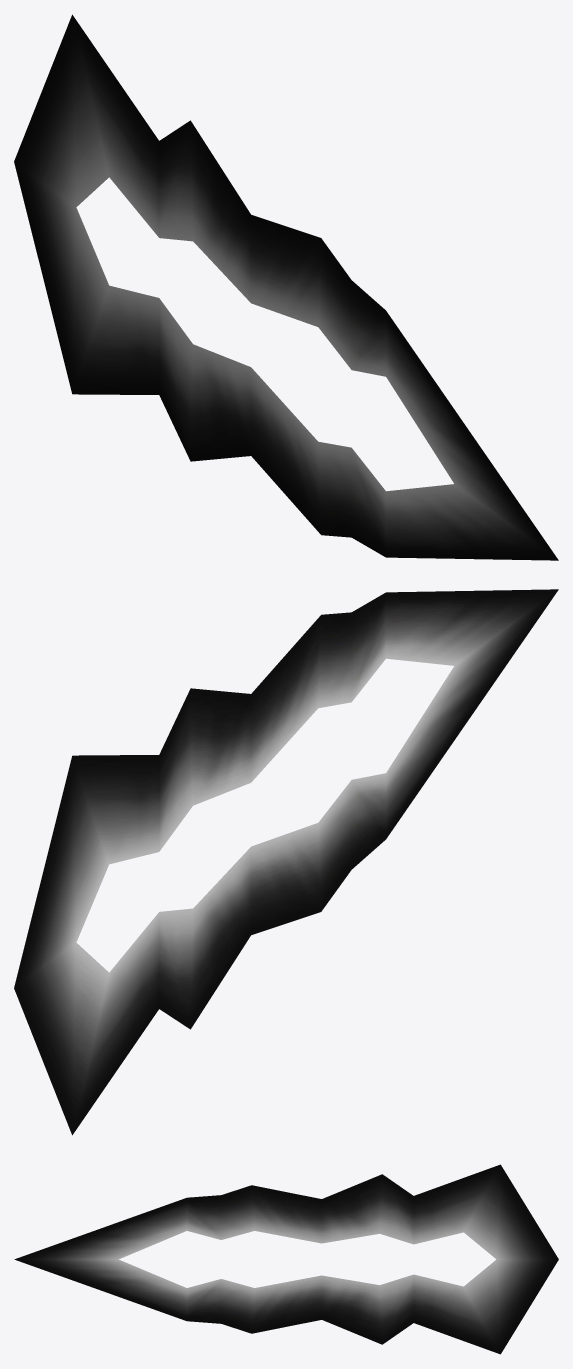
The model's file is linghunzhijian002.fbx.
3 views of the same model, one above another, from view 1: azimuth 30°, elevation 25°; view 2: azimuth 150°, elevation 25°; view 3: azimuth 270°, elevation 25° (orthographic). The views are drawn at different scales.
Parts seen in each view (by area): view 1: linghunzhijian002; view 2: linghunzhijian002; view 3: linghunzhijian002.
Part boxes in pixels (x1=…): linghunzhijian002: x1=14, y1=14, x2=558, y2=560; linghunzhijian002: x1=14, y1=589, x2=558, y2=1135; linghunzhijian002: x1=14, y1=1164, x2=558, y2=1354.
Size of the model in its own units: 0 by 203 by 528.
